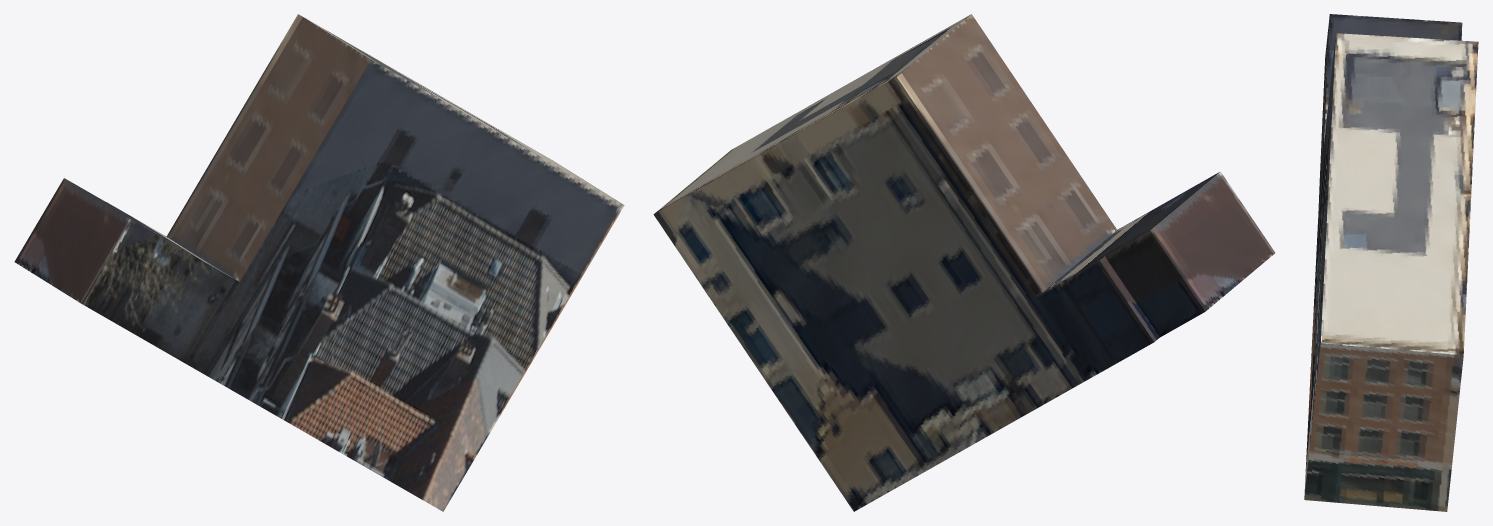
3 views of the same model, side by side, from view 1: azimuth 30°, elevation 25°; view 2: azimuth 150°, elevation 25°; view 3: azimuth 270°, elevation 25° (orthographic). The views are drawn at different scales.
Visible parts, largest first — view 1: BAG_0599100000671694 (×4); view 2: BAG_0599100000671694 (×5); view 3: BAG_0599100000671694 (×4).
Part boxes in pixels (box(x1,y1,x2,y2)): BAG_0599100000671694 (×4): box(14, 14, 624, 511); BAG_0599100000671694 (×5): box(653, 14, 1275, 511); BAG_0599100000671694 (×4): box(1304, 14, 1478, 511).
Size of the model in its own units: 27.11 by 22.15 by 7.77.
6 materials, 6 textured.
